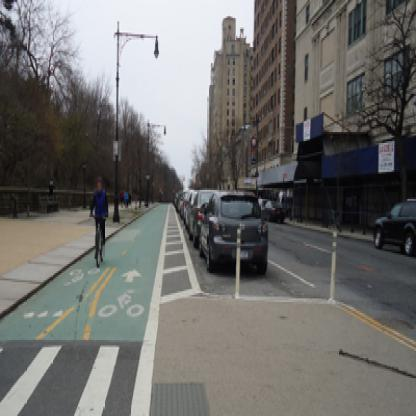Helmet: (92, 171, 104, 191)
